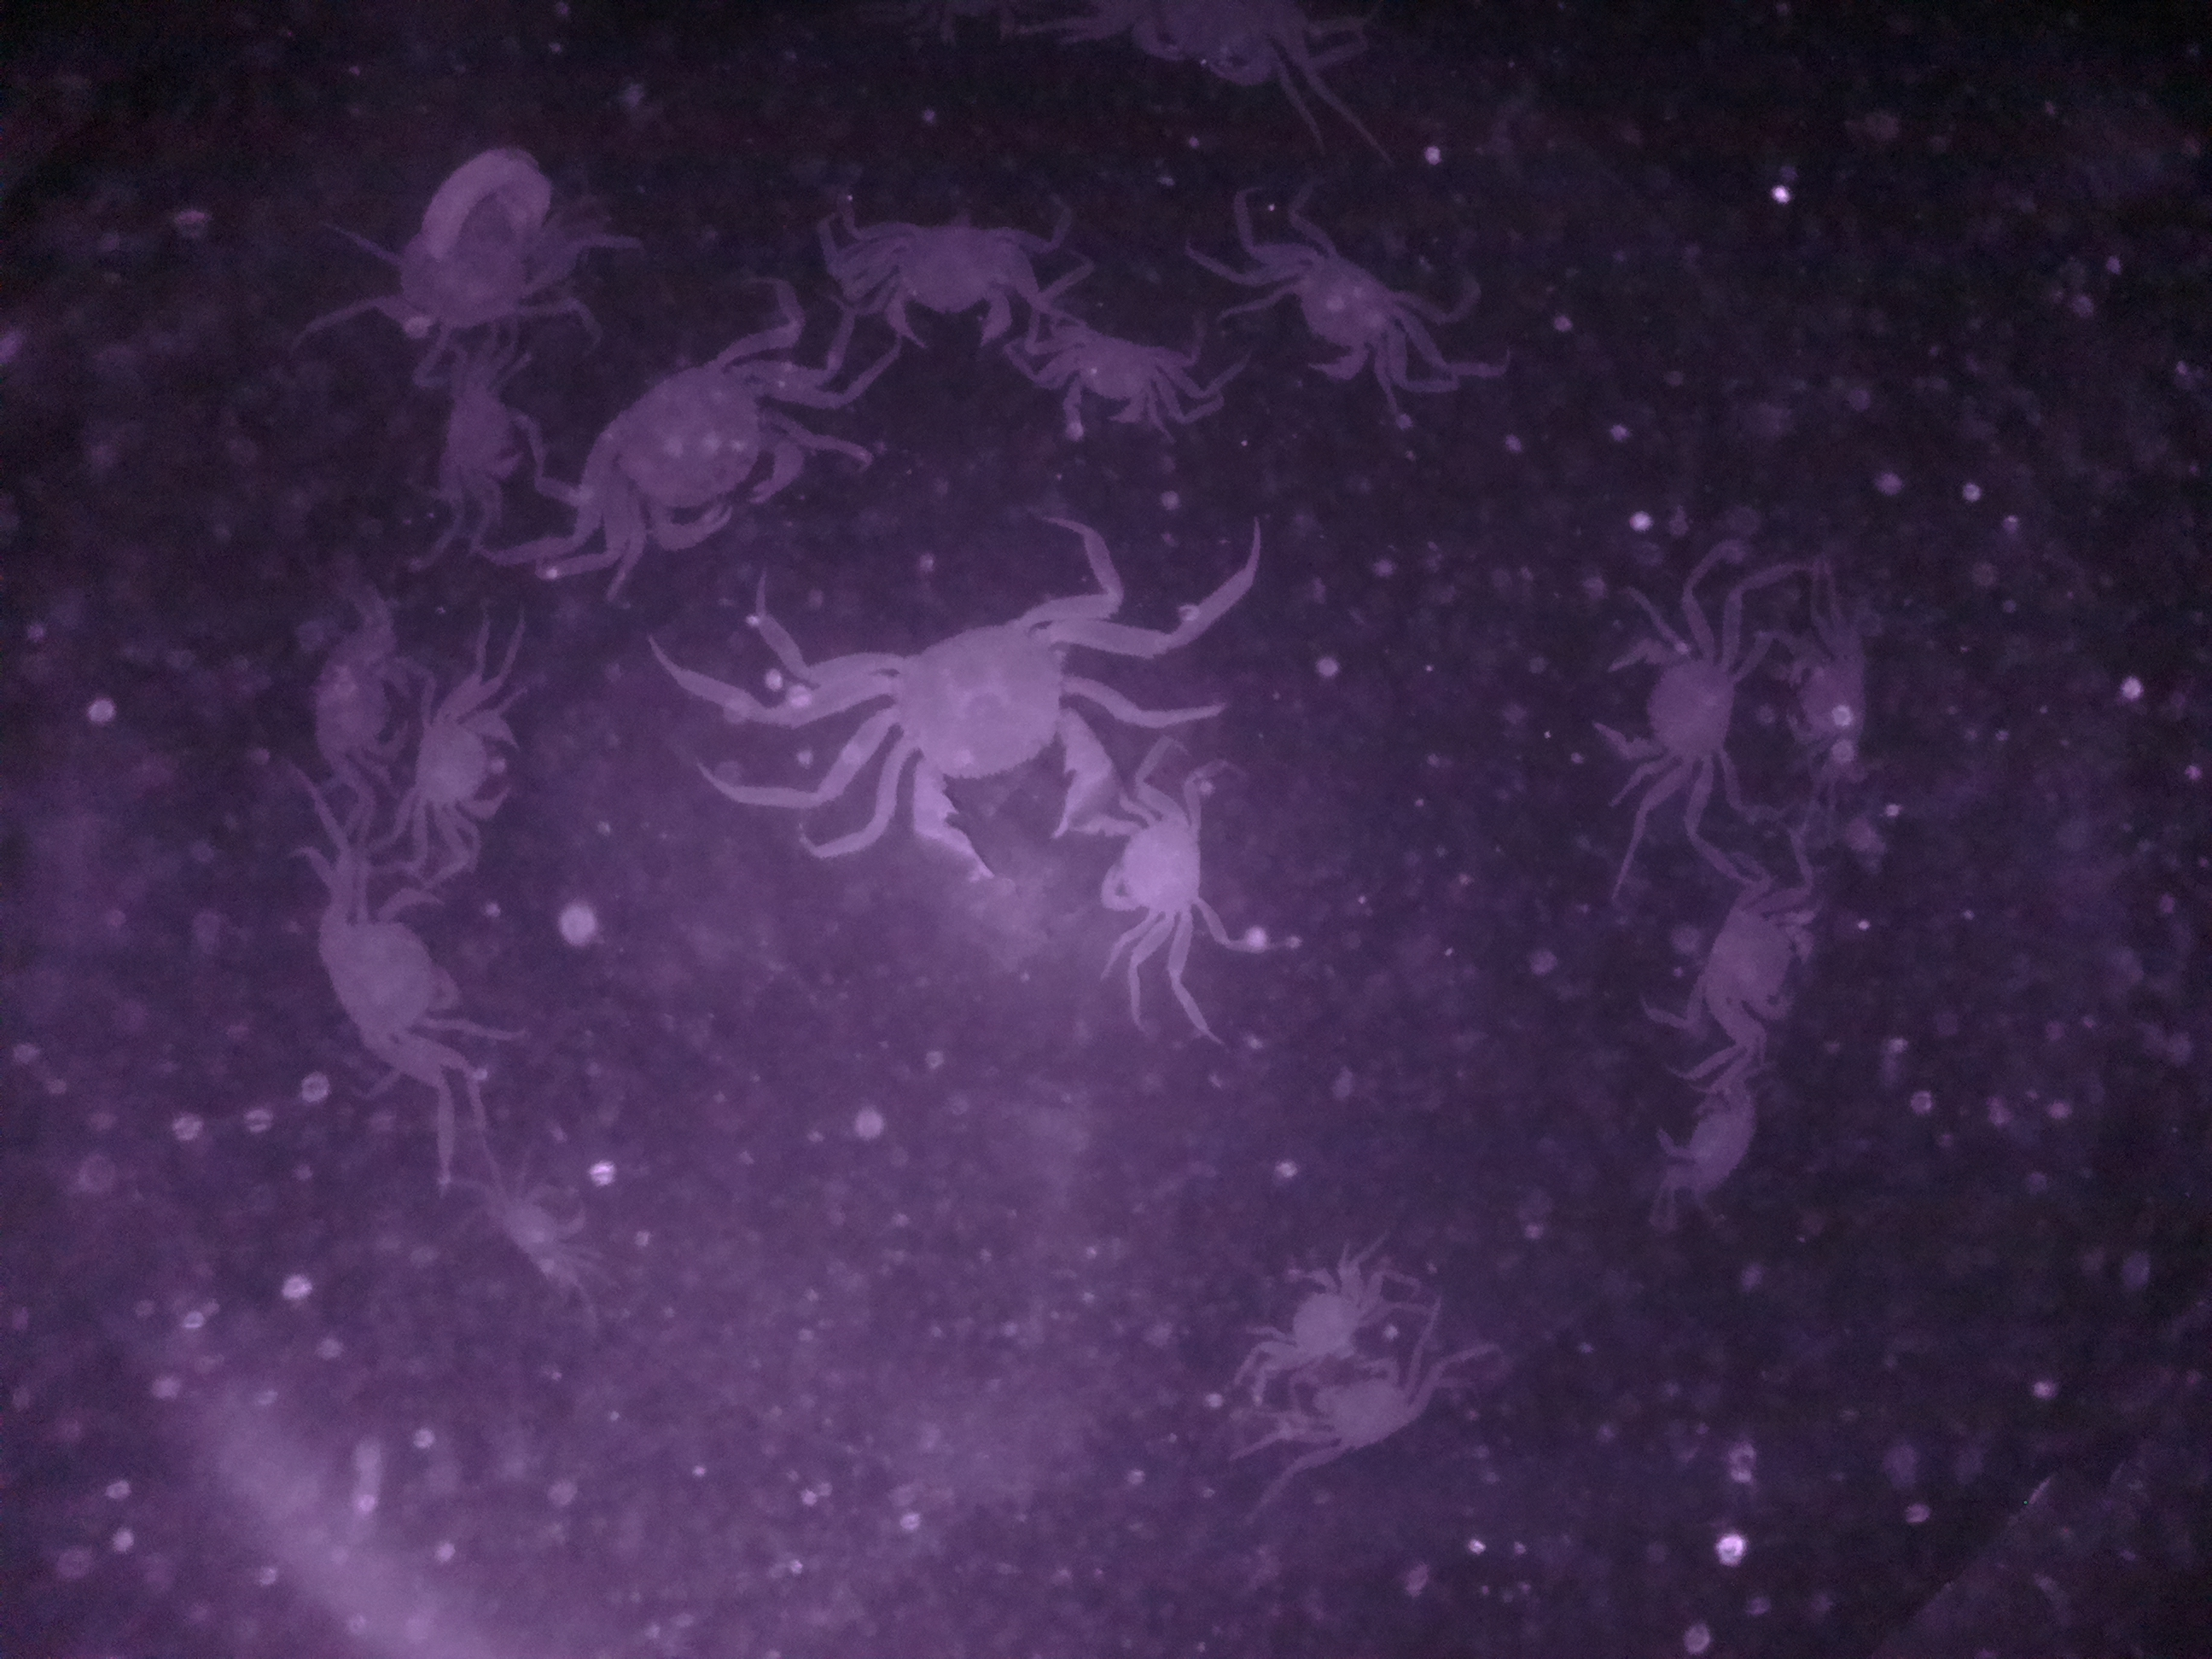Crab: (857, 587, 1118, 880), (589, 326, 817, 573), (315, 875, 479, 1096), (1581, 620, 1768, 807), (1249, 227, 1425, 403), (1073, 775, 1219, 964), (852, 216, 1029, 362), (1275, 1342, 1446, 1471), (406, 678, 531, 852), (1019, 324, 1204, 437), (1251, 1249, 1362, 1373)
